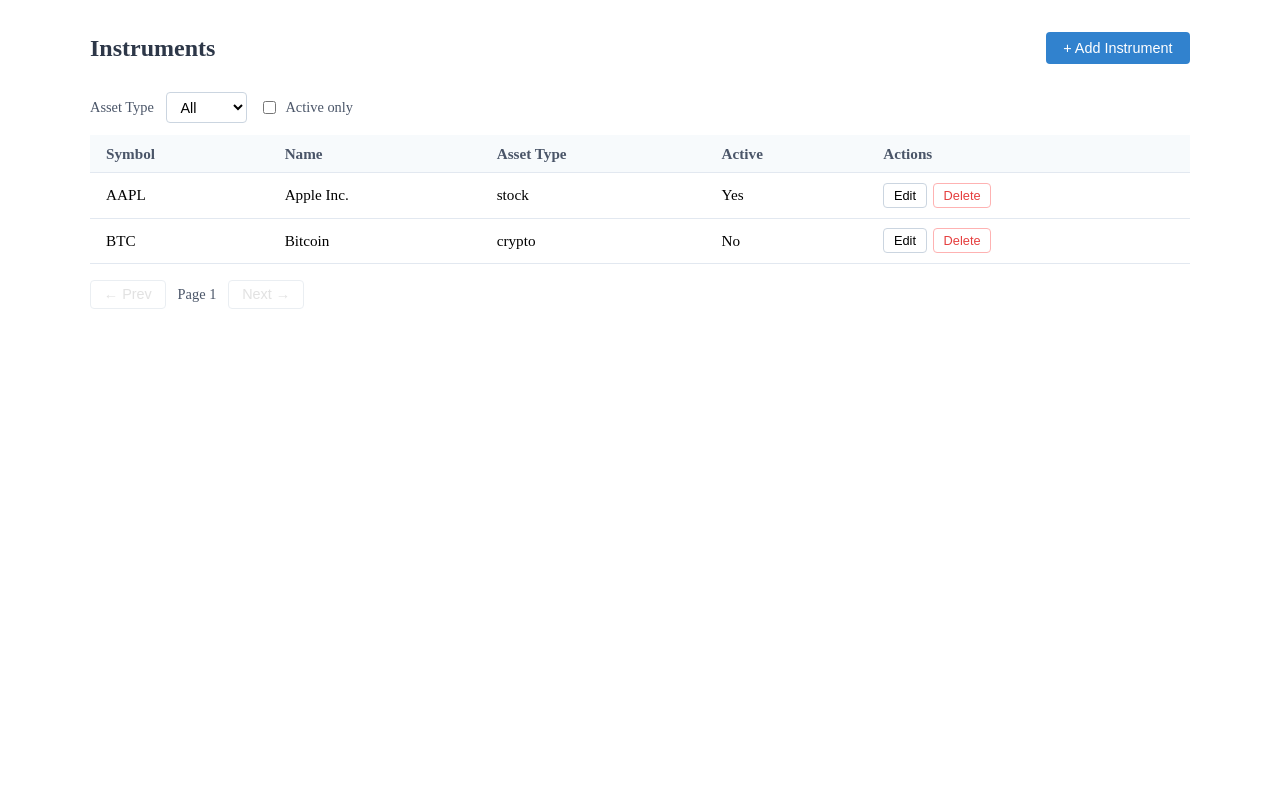
Test: Instruments page › opens the Edit form pre-filled when Edit is clicked
The width and height of the screenshot is (1280, 800).
expect the text "AAPL" is shown: met, box [90,173,269,218]
Click the button with aria-label "edit aapl" at x=905, y=196, box [883,183,927,208]
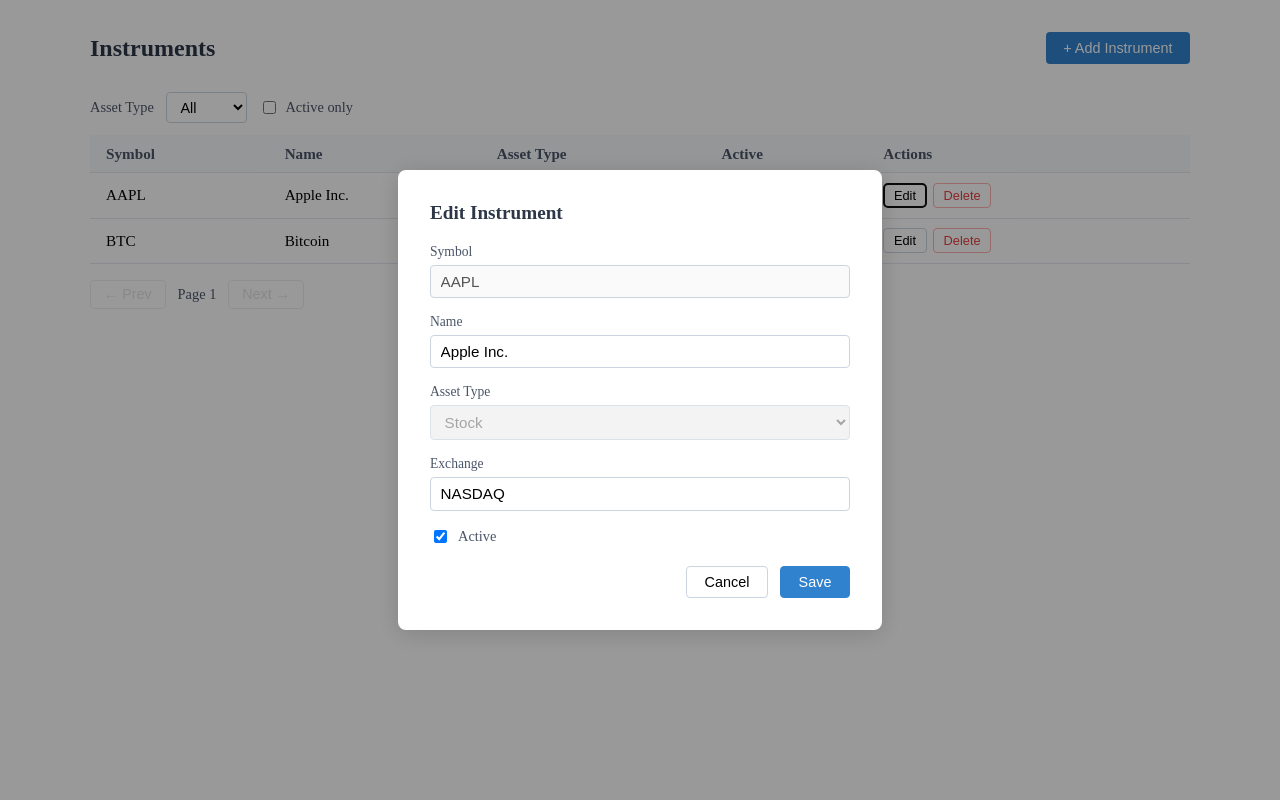
expect the heading "Edit Instrument" is shown: met, box [430,202,563,223]
expect the field labelled "Symbol" holds "AAPL": met, box [430,265,850,298]
